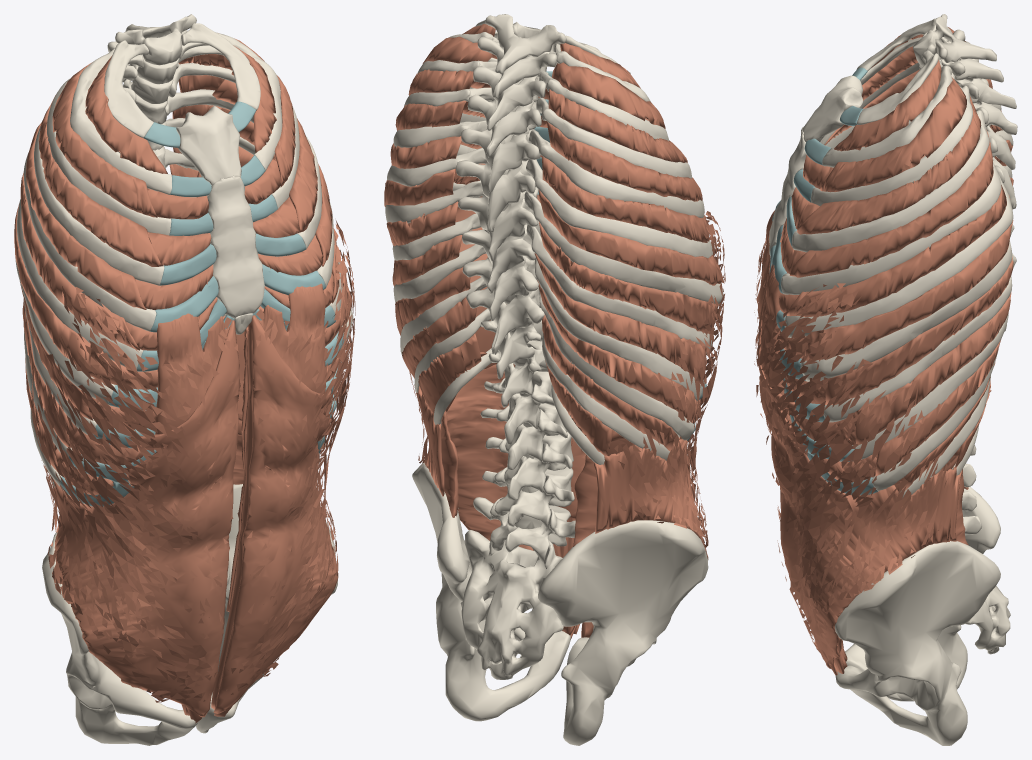
Rendered from motion-breath.glb.
The picture shows the model from 3 angles, left to right: view 1: azimuth 30°, elevation 25°; view 2: azimuth 150°, elevation 25°; view 3: azimuth 270°, elevation 25°; orthographic projection. The views are drawn at different scales.
Parts seen in each view (by area): view 1: External abdominal oblique muscle.r.001, Internal abdominal oblique muscle.r.001, External intercostal muscles.r.001, Internal abdominal oblique muscle.l.001, External abdominal oblique muscle.l.001, Hip bone.r.001, External intercostal muscles.l.001, Internal intercostal muscles.r.001, Rectus abdominis muscle.l.001, Body of sternum.001, Rectus abdominis muscle.r.001, Internal intercostal muscles.l.001 (+31 smaller); view 2: External intercostal muscles.r.001, Hip bone.r.001, External intercostal muscles.l.001, Hip bone.l.001, Sacrum.001, Transversus abdominis muscle.l.001, External abdominal oblique muscle.r.001, Internal abdominal oblique muscle.r.001, Seventh rib.r.001, Sixth rib.r.001, Vertebra L5.001, Eighth rib.r.001 (+37 smaller); view 3: External intercostal muscles.l.001, External abdominal oblique muscle.l.001, Hip bone.l.001, Internal abdominal oblique muscle.l.001, Internal intercostal muscles.l.001, Sixth rib.l.001, Fifth rib.l.001, Fourth rib.l.001, Seventh rib.l.001, Hip bone.r.001, Eighth rib.l.001, Third rib.l.001 (+19 smaller).
Boxes of the visible parts, x1,y1,x2,y2 form: External abdominal oblique muscle.r.001: (30, 286, 238, 702); Internal abdominal oblique muscle.r.001: (50, 320, 240, 717); External intercostal muscles.r.001: (14, 55, 167, 482); Internal abdominal oblique muscle.l.001: (213, 315, 338, 713); External abdominal oblique muscle.l.001: (226, 220, 355, 694); Hip bone.r.001: (42, 532, 198, 745); External intercostal muscles.l.001: (169, 38, 352, 326); Internal intercostal muscles.r.001: (25, 119, 217, 495); Rectus abdominis muscle.l.001: (211, 283, 325, 709); Body of sternum.001: (207, 175, 264, 318); Rectus abdominis muscle.r.001: (155, 313, 230, 715); Internal intercostal muscles.l.001: (244, 106, 344, 438); External intercostal muscles.r.001: (534, 43, 721, 455); Hip bone.r.001: (538, 520, 708, 745); External intercostal muscles.l.001: (384, 24, 497, 413); Hip bone.l.001: (412, 462, 570, 721); Sacrum.001: (460, 530, 563, 679); Transversus abdominis muscle.l.001: (441, 365, 586, 639); External abdominal oblique muscle.r.001: (614, 211, 725, 547); Internal abdominal oblique muscle.r.001: (593, 436, 708, 559); Seventh rib.r.001: (524, 191, 723, 303); Sixth rib.r.001: (526, 159, 712, 258); Vertebra L5.001: (473, 497, 575, 561); Eighth rib.r.001: (526, 224, 711, 353); External intercostal muscles.l.001: (786, 60, 1013, 490); External abdominal oblique muscle.l.001: (754, 275, 950, 665); Hip bone.l.001: (834, 541, 1000, 745); Internal abdominal oblique muscle.l.001: (757, 278, 961, 669); Internal intercostal muscles.l.001: (770, 151, 961, 482); Sixth rib.l.001: (785, 175, 1013, 337); Fifth rib.l.001: (781, 162, 1001, 294); Fourth rib.l.001: (792, 110, 989, 252); Seventh rib.l.001: (800, 240, 1012, 381); Hip bone.r.001: (845, 486, 1000, 701); Eighth rib.l.001: (824, 276, 1012, 422); Third rib.l.001: (811, 85, 972, 205).
Size of the model in its own units: 0.2833 by 0.6559 by 0.226.
